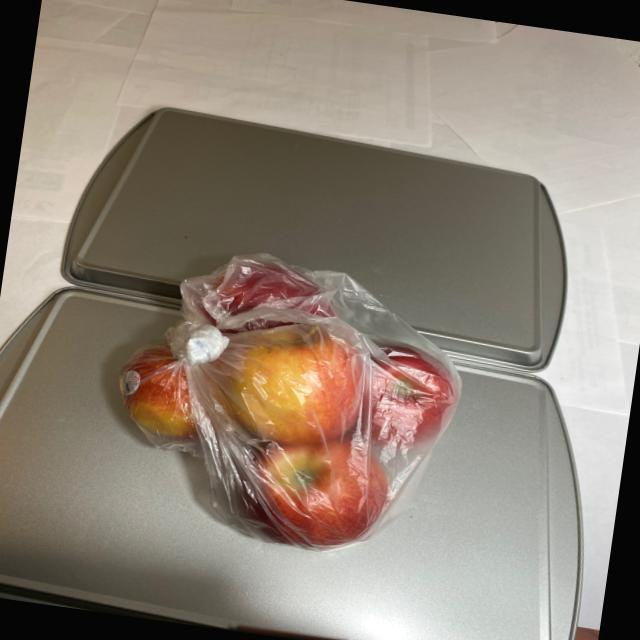apple: (95, 235, 480, 570)
